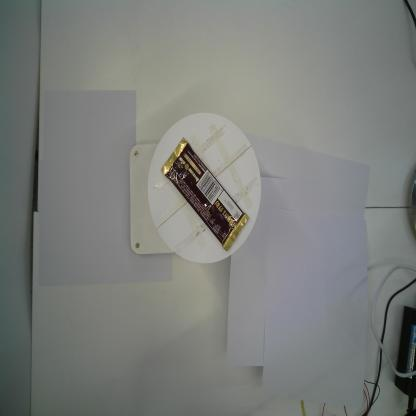Chocolate: (160, 136, 250, 253)
